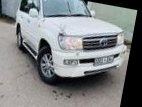car: (6, 0, 133, 95)
